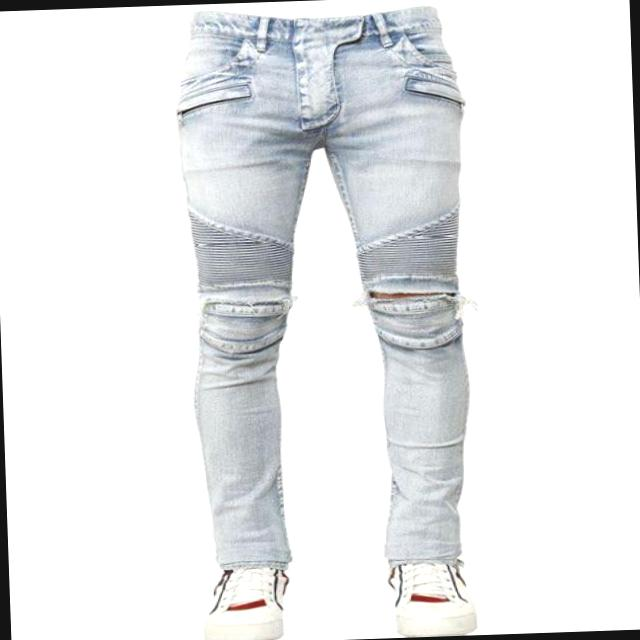pants: (173, 1, 481, 572)
